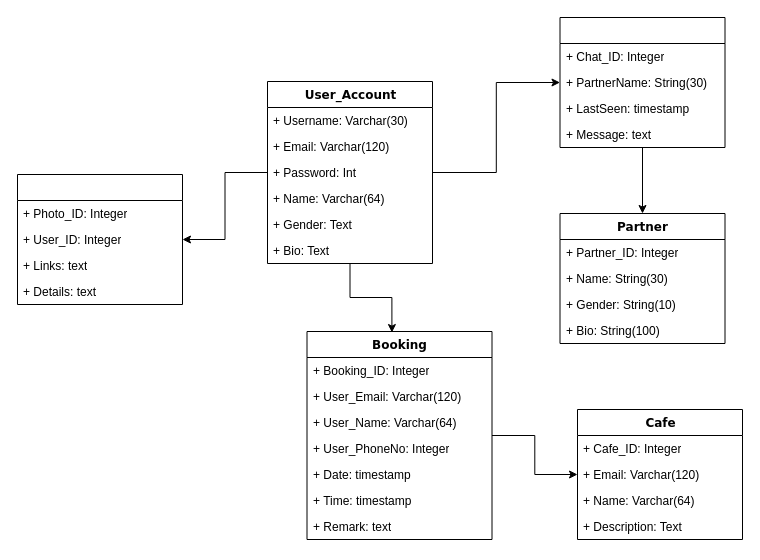
Some shapes in this 760 by 560 pixel diagram are drawn without their labels. Each missing label, with the box of its shape:
Chatting: (559, 16, 725, 148)
User_Photo: (16, 174, 182, 304)
